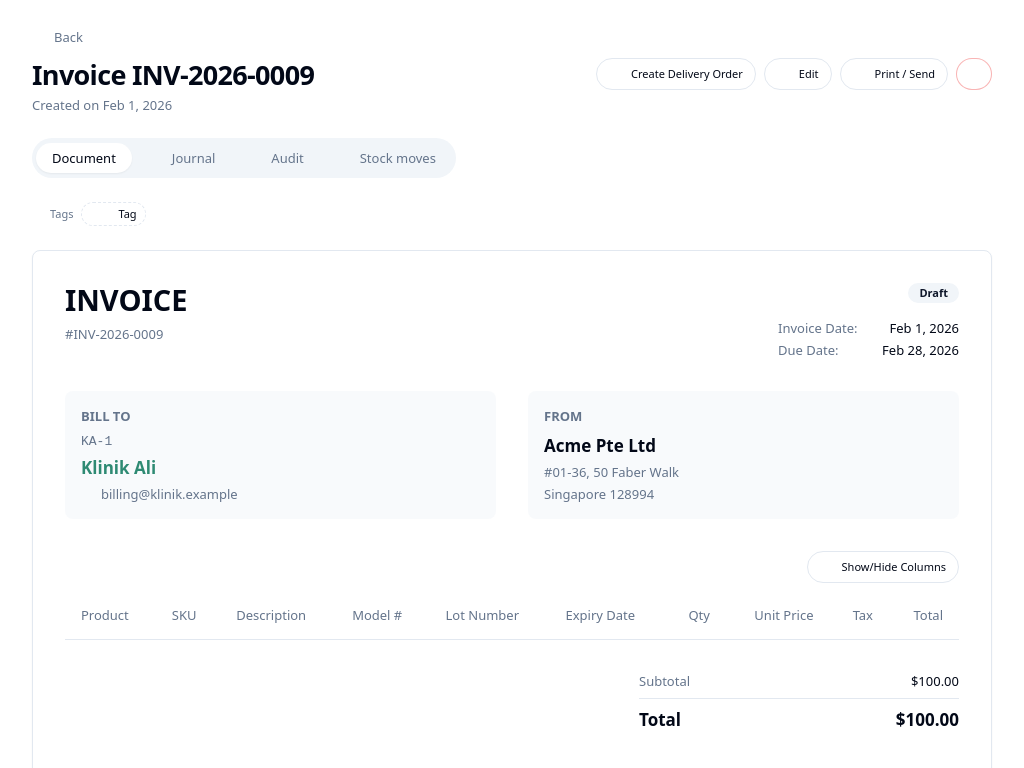
InvoiceDetailPage — Journal tab (#883) › surfaces a setup error on the preview instead of hiding it
This screenshot has width=1024, height=768.
Expected: the heading "Invoice INV-2026-0009" is shown, [32,56,314,93]
Press the mouse on the tab "Journal" at (182, 158), box [132,143,231,173]
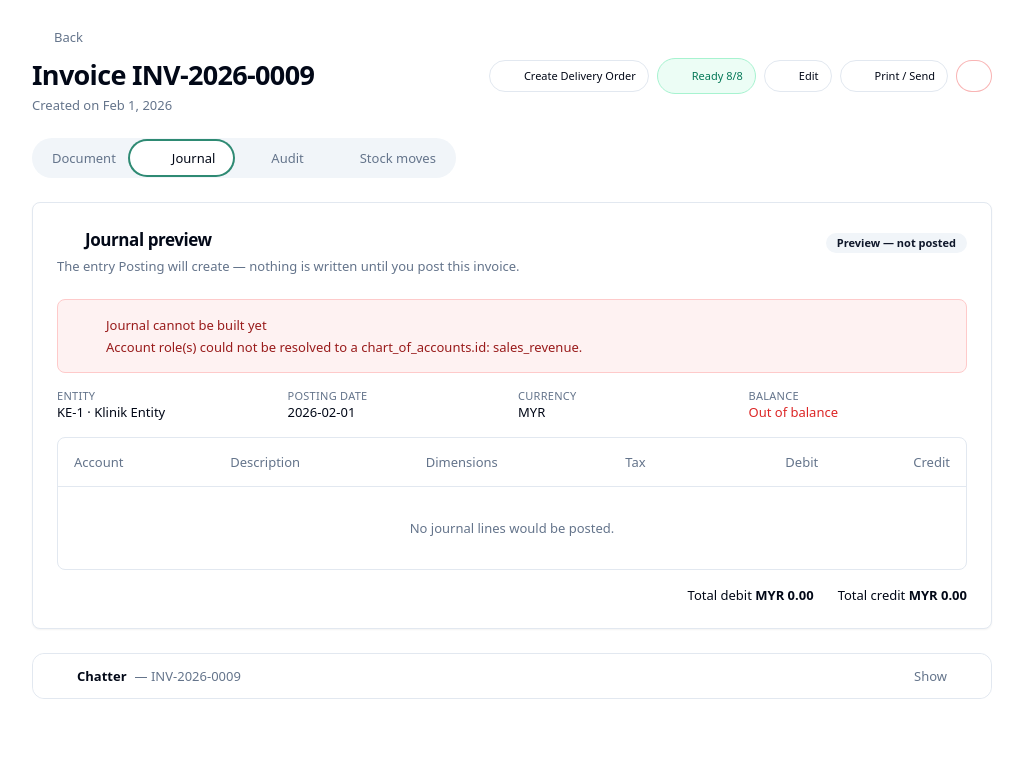
Expected: the text "Journal cannot be built yet" is shown, [106,316,267,334]
Expected: the text "sales_revenue" is shown, [106,338,582,356]
